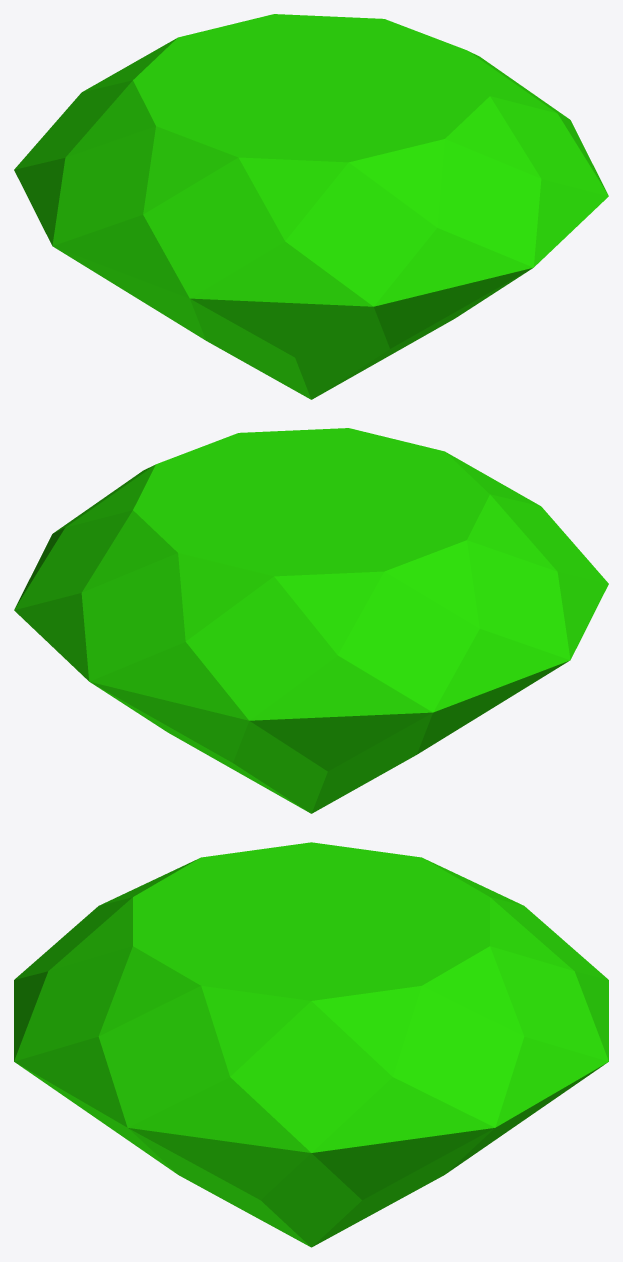
The model's file is GemaVerde.fbx.
3 views of the same model, one above another, from view 1: azimuth 30°, elevation 25°; view 2: azimuth 150°, elevation 25°; view 3: azimuth 270°, elevation 25° (orthographic). The views are drawn at different scales.
Visible parts, largest first — view 1: Gem.001; view 2: Gem.001; view 3: Gem.001.
Part boxes in pixels (bbox=[...]): Gem.001: bbox=[14, 14, 608, 399]; Gem.001: bbox=[14, 428, 608, 813]; Gem.001: bbox=[14, 842, 608, 1247].
Size of the model in its own units: 200 by 115 by 190.
